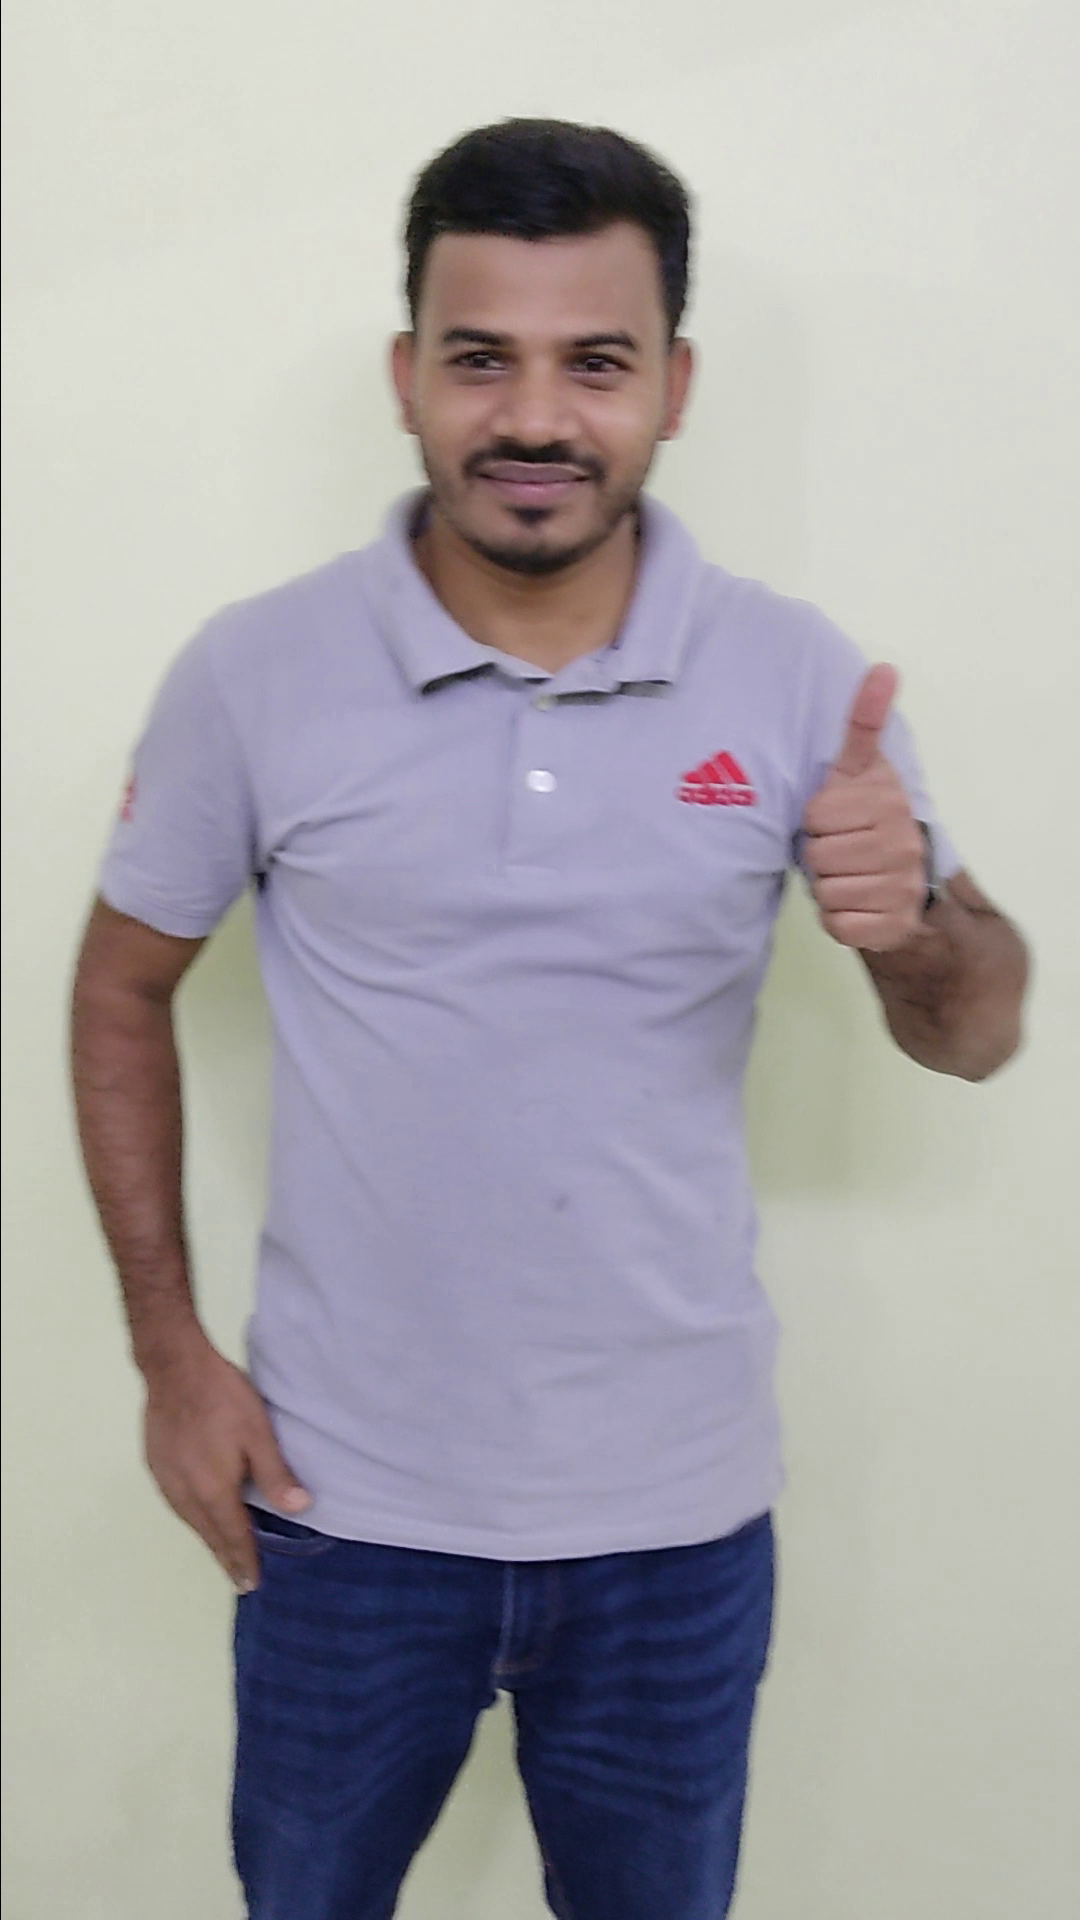Like: (748, 640, 972, 967)
None: (119, 1320, 324, 1611)
